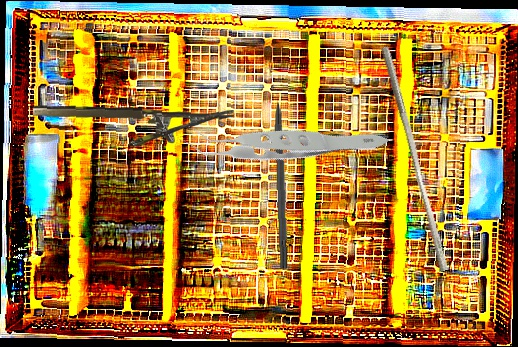Hook Surgical: (272, 82, 291, 269)
Needle Holder: (31, 103, 235, 150)
Pusher: (372, 45, 457, 273)
Tissue Forceps: (174, 46, 390, 232)
